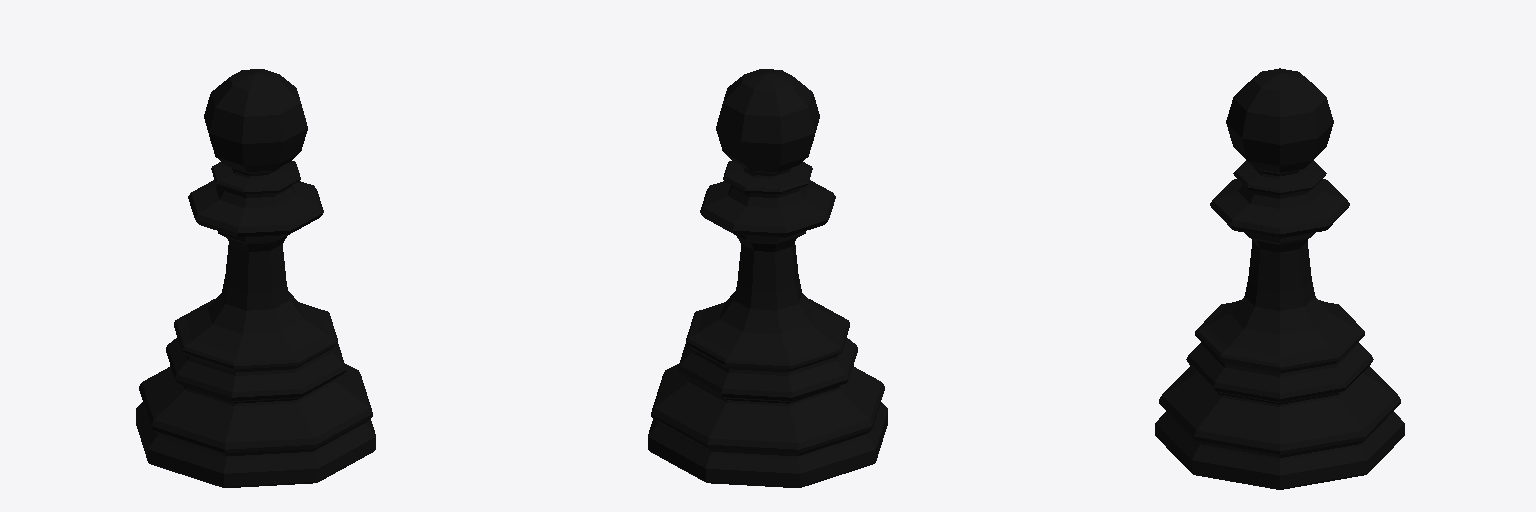
The model's file is ChessPiecePawnBlack.obj.
3 views of the same model, side by side, from view 1: azimuth 30°, elevation 25°; view 2: azimuth 150°, elevation 25°; view 3: azimuth 270°, elevation 25° (orthographic).
Parts seen in each view (by area): view 1: Pawn.Black_Cylinder; view 2: Pawn.Black_Cylinder; view 3: Pawn.Black_Cylinder.
Part boxes in pixels (x1,y1,x2,y2): Pawn.Black_Cylinder: (136,69,375,487); Pawn.Black_Cylinder: (648,69,887,487); Pawn.Black_Cylinder: (1155,68,1404,489).
Bounding box in the file's own units: 0.03 × 0.0485 × 0.03.